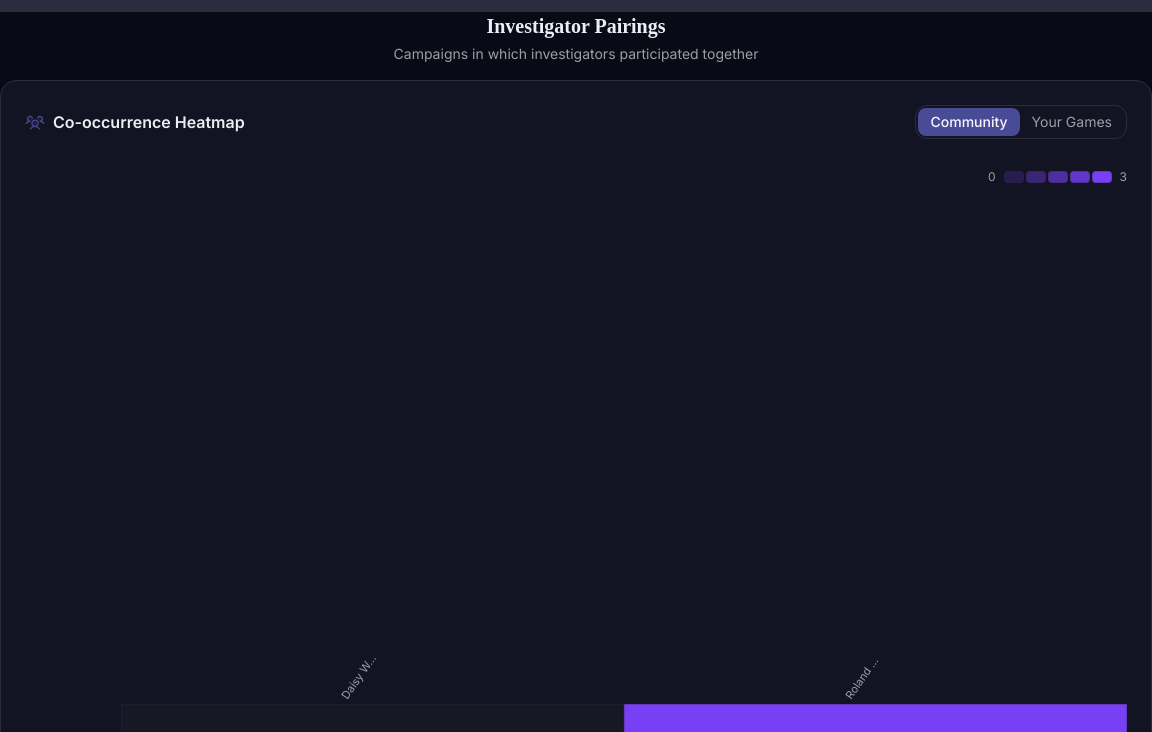
Test: InvestigatorHeatmap count units › preserves game-session units for the personal view
Click the tab "Your Games" at (1072, 122), box [1020,108,1124,136]
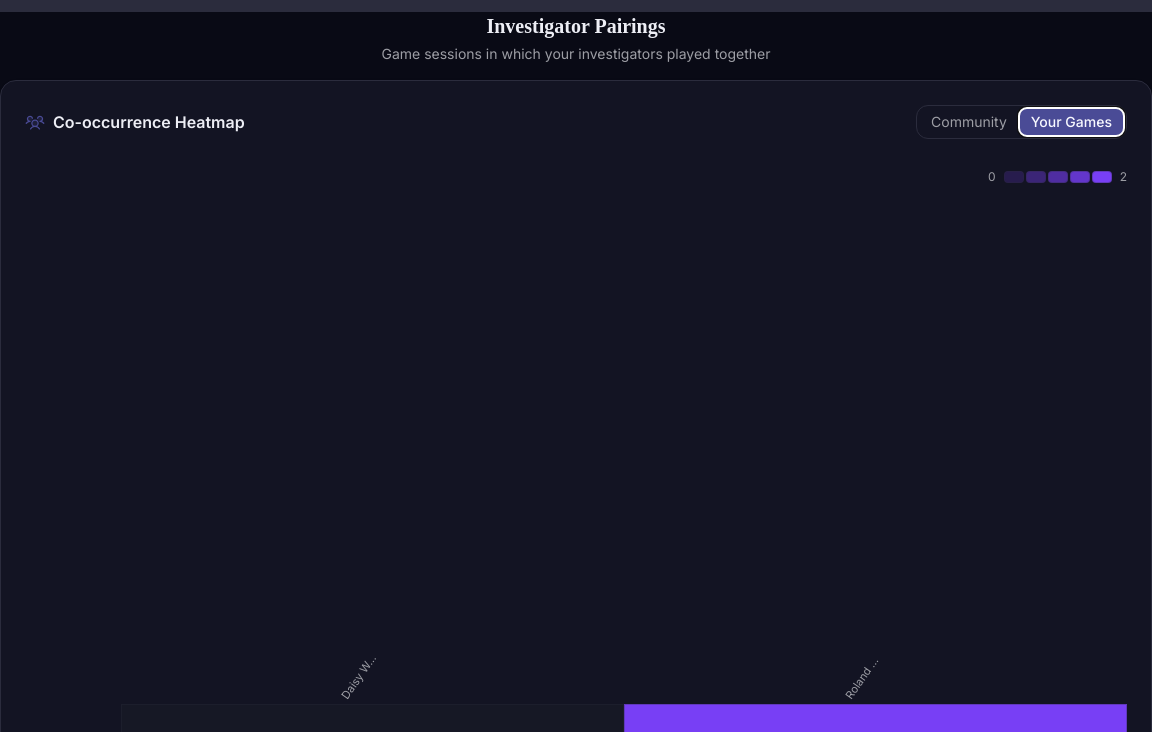
Result: the text "Game sessions in which your investigators played together" is shown at [382,45,770,62]
